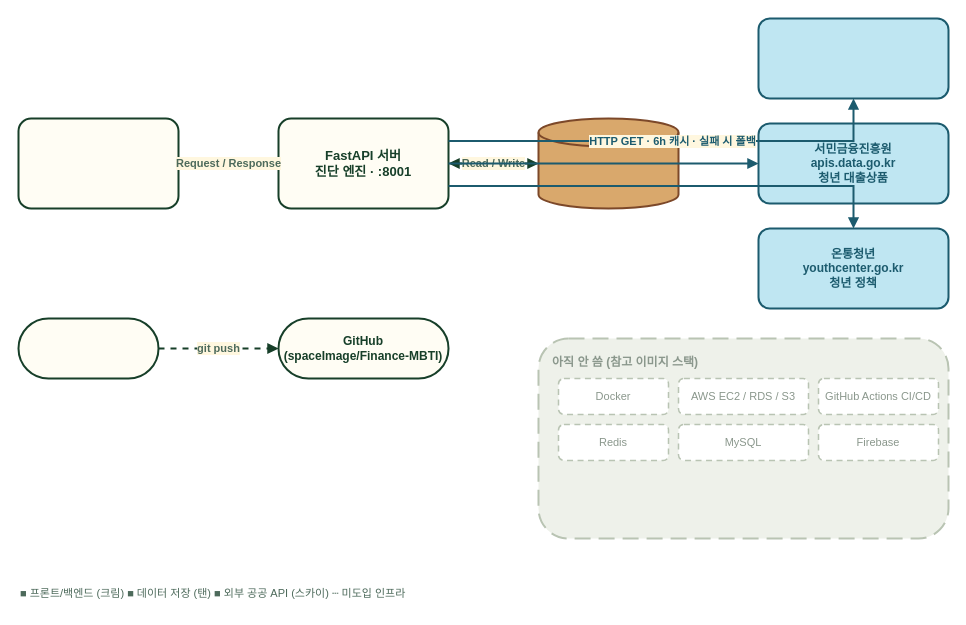
The diagram is 966 pixels wide and 625 high, and some of its shapes have lost their labels. Each missing label, with the centre of its shape:
"React SPA Vite · :3001" goes at [98,163].
"SQLite dotori.db (WAL)" goes at [608,163].
"금융감독원 finlife.fss.or.kr 예·적금 실시간 금리" goes at [853,58].
"로컬 개발" goes at [88,348].
